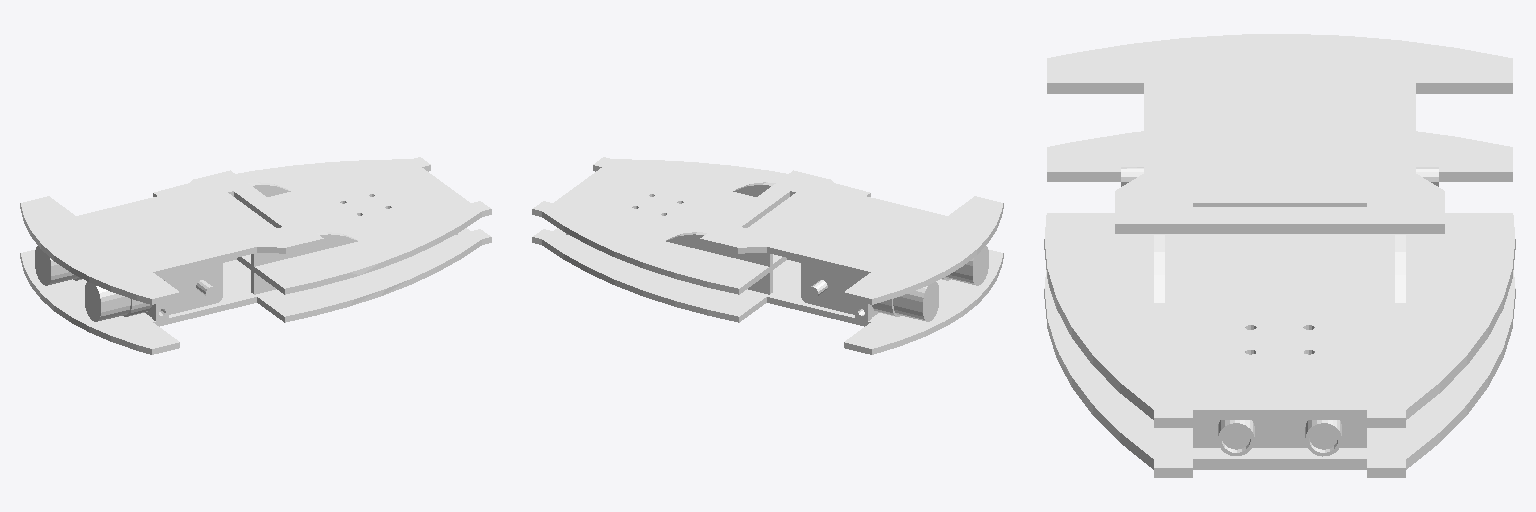
The robot description file, URDF, robot "mobile_robot":
<?xml version="1.0"?>
<!-- This URDF was automatically created by SolidWorks to URDF Exporter! Originally created by [author] ([email redacted]) 
     Commit Version: 1.5.1-0-g916b5db  Build Version: 1.5.7152.31018
     For more information, please see http://wiki.ros.org/sw_urdf_exporter -->
<!--robot
  name="Seguidor_linea_robot"-->
<robot xmlns:xacro="http://www.ros.org/wiki/xacro" name="mobile_robot">
  
  <!--link name="odom_link"/>
  <joint name="odom_joint" type="fixed">
    <parent link="odom_link" />
    <child link = "base_link" />
    <origin xyz="0.0 0.0 0.0" rpy="0.0 0.0 0.0" />
  </joint-->

  <link
    name="base_link">
    <inertial>
      <origin
        xyz="0.010085 -7.8763E-06 -0.0066048"
        rpy="0 0 0" />
      <mass value="0.12" />
      <inertia
        ixx="0.0001"
        ixy="0"
        ixz="0"
        iyy="0.0003"
        iyz="0"
        izz="0.0002" />
    </inertial>
    <visual>
      <origin
        xyz="0 0 0"
        rpy="0 0 0" />
      <geometry>
        <mesh
          filename="package://my_robot_ver3/meshes/base_link.STL" />
      </geometry>
      <material
        name="">
        <color
          rgba="1 1 1 0.3" />
      </material>
    </visual>
    <collision>
      <origin
        xyz="0 0 0"
        rpy="0 0 0" />
      <geometry>
        <mesh
          filename="package://my_robot_ver3/meshes/base_link.STL" />
      </geometry>
    </collision>
  </link>

  <!--link name="world"/>
  <joint name="world_joint" type="fixed">
    <parent link="world" />
    <child link = "base_link" />
    <origin xyz="0.0 0.0 0.0" rpy="0.0 0.0 0.0" />
    package://my_robot_ver3/meshes/base_link.stl
  </joint-->

  <gazebo reference="base_link">
    <mu1>200</mu1>
    <mu2>200</mu2>
    <kp>1000000</kp>
    <kd>1</kd>
    <material>Gazebo/Green</material>
  </gazebo>

  <link
    name="Rueda_izquierda_link">
    <inertial>
      <origin
        xyz="8.9146E-10 -3.2512E-08 -0.011873"
        rpy="0 0 0" />
      <mass value="0.1403" />
      <inertia
        ixx="0.00002"
        ixy="0"
        ixz="0"
        iyy="0.00002"
        iyz="0"
        izz="0.0001" />
    </inertial>
    <visual>
      <origin
        xyz="0 0 0"
        rpy="0 0 0" />
      <geometry>
        <mesh
          filename="package://my_robot_ver3/meshes/Rueda_izquierda_link.STL" />
      </geometry>
      <material
        name="">
        <color
          rgba="0.79216 0.81961 0.93333 1" />
      </material>
    </visual>
    <collision>
      <origin
        xyz="0 0 0"
        rpy="0 0 0" />
      <geometry>
        <mesh
          filename="package://my_robot_ver3/meshes/Rueda_izquierda_link.STL" />
      </geometry>
    </collision>
  </link>
  <joint
    name="Rueda_izquierda_joint"
    type="continuous">
    <origin
      xyz="-0.033259 0.08025 -0.01375"
      rpy="-1.5708 0.042481 0" />
    <parent
      link="base_link" />
    <child
      link="Rueda_izquierda_link" />
    <axis
      xyz="0 0 1" />
    <dynamics
      damping="0.1"
      friction="0.1" />
  </joint>

 <gazebo reference="Rueda_izquierda_link">
    <mu1>200</mu1>
    <mu2>200</mu2>
    <kp>1000000</kp>
    <kd>1</kd>
    <material>Gazebo/Gray</material>
  </gazebo>


  <link
    name="Rueda_derecha_link">
    <inertial>
      <origin
        xyz="-8.9146E-10 -3.2512E-08 0.011873"
        rpy="0 0 0" />
      <mass value="0.1403" />
      <inertia
        ixx="0.00002"
        ixy="0"
        ixz="0"
        iyy="0.00002"
        iyz="0"
        izz="0.0001" />
    </inertial>
    <visual>
      <origin
        xyz="0 0 0"
        rpy="0 0 0" />
      <geometry>
        <mesh
          filename="package://my_robot_ver3/meshes/Rueda_derecha_link.STL" />
      </geometry>
      <material
        name="">
        <color
          rgba="0.79216 0.81961 0.93333 1" />
      </material>
    </visual>
    <collision>
      <origin
        xyz="0 0 0"
        rpy="0 0 0" />
      <geometry>
        <mesh
          filename="package://my_robot_ver3/meshes/Rueda_derecha_link.STL" />
      </geometry>
    </collision>
  </link>

  <gazebo reference="Rueda_derecha_link">
    <mu1>200</mu1>
    <mu2>200</mu2>
    <kp>1000000</kp>
    <kd>1</kd>
    <material>Gazebo/Gray</material>
  </gazebo>

  <joint
    name="Rueda_derecha_joint"
    type="continuous">
    <origin
      xyz="-0.033259 -0.08025 -0.01375"
      rpy="1.5708 0.042481 -3.1416" />
    <parent
      link="base_link" />
    <child
      link="Rueda_derecha_link" />
    <axis
      xyz="0 0 1" />
    <dynamics
      damping="0.1"
      friction="0.1" />
  </joint>

  <link
    name="Base_castor_link">
    <inertial>
      <origin
        xyz="0 0 0"
        rpy="0 0 0" />
      <mass
        value="0.5" />
      <inertia
        ixx="0.00004"
        ixy="0"
        ixz="0"
        iyy="0.00004"
        iyz="0"
        izz="0.00001" />
    </inertial>
    <visual>
      <origin
        xyz="0 0 0"
        rpy="0 0 0" />
      <geometry>
        <mesh
          filename="package://my_robot_ver3/meshes/Base_castor_link.STL" />
      </geometry>
      <material
        name="">
        <color
          rgba="1 1 1 1" />
      </material>
    </visual>
    <collision>
      <origin
        xyz="0 0 0"
        rpy="0 0 0" />
      <geometry>
        <mesh
          filename="package://my_robot_ver3/meshes/Base_castor_link.STL" />
      </geometry>
    </collision>
    
  </link>

  <gazebo reference="Base_castor_link">
    <mu1>0.1</mu1>
    <mu2>0.1</mu2>
    <kp>1000000</kp>
    <kd>1</kd>
    <material>Gazebo/Gray</material>
  </gazebo>

  <joint
    name="Base_castor_joint"
    type="continuous">
    <origin
      xyz="0.072581 0 -0.0025"
      rpy="-3.1408 0 0" />
    <parent
      link="base_link" />
    <child
      link="Base_castor_link" />
    <axis
      xyz="0 0 1" />
  </joint>
  <link
    name="Rueda_castor_link">
    <inertial>
      <origin
        xyz="6.93889390390723E-18 -2.62037475051713E-11 -2.77710070911708E-09"
        rpy="0 0 0" />
      <mass
        value="0.0828739992319076" />
      <inertia
        ixx="0.0004"
        ixy="0"
        ixz="0"
        iyy="0.0004"
        iyz="0"
        izz="0.00001" />
    </inertial>
    <visual>
      <origin
        xyz="0 0 0"
        rpy="0 0 0" />
      <geometry>
        <mesh
          filename="package://my_robot_ver3/meshes/Rueda_castor_link.STL" />
      </geometry>
      <material
        name="">
        <color
          rgba="1 1 1 1" />
      </material>
    </visual>
    <collision>
      <origin
        xyz="0 0 0"
        rpy="0 0 0" />
      <geometry>
        <mesh
          filename="package://my_robot_ver3/meshes/Rueda_castor_link.STL" />
      </geometry>
    </collision>
  </link>

  <gazebo reference="Rueda_castor_link">
    <mu1>0.1</mu1>
    <mu2>0.1</mu2>
    <kp>1000000</kp>
    <kd>1</kd>
    <material>Gazebo/Black</material>
  </gazebo>

  <joint
    name="Rueda_castor_joint"
    type="continuous">
    <origin
      xyz="0.015014 -0.00012272 0.02296"
      rpy="0 -1.57 1.5708" />
    <parent
      link="Base_castor_link" />
    <child
      link="Rueda_castor_link" />
    <axis
      xyz="0 0 1" />
  </joint>

  <gazebo>
    <plugin name="two_wheeled_robot_diff_drive" filename="libgazebo_ros_diff_drive.so">
 
      <update_rate>100</update_rate>
      
      <!-- wheels -->
      <left_joint>Rueda_izquierda_joint</left_joint>
      <right_joint>Rueda_derecha_joint</right_joint>
 
      <!-- kinematics -->
      <wheel_separation>0.15</wheel_separation>
      <wheel_diameter>0.06</wheel_diameter>
 
      <!-- limits -->
      <max_wheel_torque>20</max_wheel_torque>
      <max_wheel_acceleration>20.0</max_wheel_acceleration>
 
      <!-- Receive velocity commands on this ROS topic -->
      <command_topic>cmd_vel</command_topic>
 
      <!-- output -->
      <!-- When false, publish no wheel odometry data to a ROS topic -->
      <publish_odom>true</publish_odom>
 
      <!-- When true, publish coordinate transform from odom to base_footprint -->
      <!-- I usually use the robot_localization package to publish this transform -->  
      <publish_odom_tf>true</publish_odom_tf>
     
      <!-- When true, publish coordinate transform from base_link to the wheels -->
      <!-- The robot_state_publisher package is often used to publish this transform -->  
      <publish_wheel_tf>true</publish_wheel_tf>
 
      <odometry_topic>odom</odometry_topic>
      <odometry_frame>odom_link</odometry_frame>
      <robot_base_frame>base_link</robot_base_frame>
 
      <odometry_source>1</odometry_source>
      <ros>
        <remapping>odom:=wheel/odometry</remapping>
      </ros>
    </plugin>
  </gazebo>

  <gazebo>
    <plugin name="gazebo_ros_joint_state_publisher"
        filename="libgazebo_ros_joint_state_publisher.so">
        <update_rate>100</update_rate>
        <joint_name>Base_castor_joint</joint_name>
        <joint_name>Rueda_castor_joint</joint_name>
    </plugin>
  </gazebo>

</robot>

--- Facts derived from the render (not from the file) ---
Views: 3 orthographic renders of the robot side by side, from view 1: azimuth 30°, elevation 25°; view 2: azimuth 150°, elevation 25°; view 3: azimuth 270°, elevation 25°.
Model mobile_robot with 5 links and 4 joints (4 continuous), rooted at base_link, posed every joint at zero.
Visible links, largest first — view 1: base_link; view 2: base_link; view 3: base_link.
Link boxes in pixels (x1,y1,x2,y2): base_link: [20, 157, 491, 354]; base_link: [532, 157, 1003, 354]; base_link: [1044, 34, 1515, 477].
Size in the robot's own frame: 0.21 by 0.1212 by 0.0282 metres.
Meshes: 5 distinct files referenced, 1 mesh visuals loaded (1 binary STL); not drawn: 4 (reference not matched to a file when rendering).